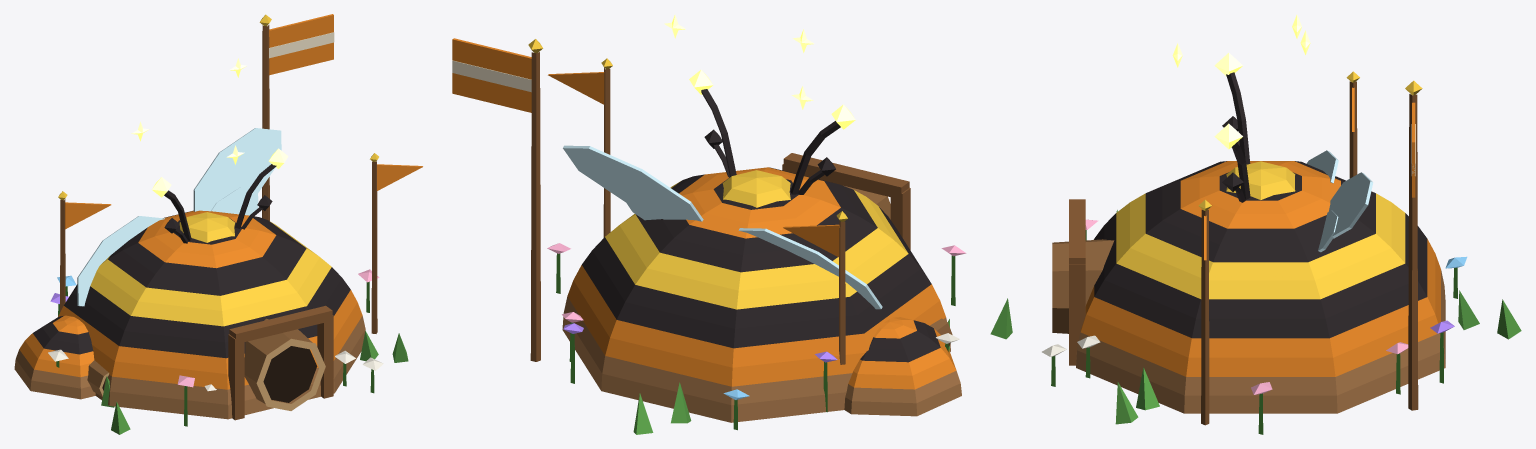
Rendered from bumblebee-burrow.glb.
3 views of the same model, side by side, from view 1: azimuth 30°, elevation 25°; view 2: azimuth 150°, elevation 25°; view 3: azimuth 270°, elevation 25° (orthographic). The views are drawn at different scales.
Parts seen in each view (by area): view 1: lv3, lv2; view 2: lv3, lv2; view 3: lv3, lv2.
Boxes of the visible parts, <box> form: lv3: <box>14,14,422,434</box>; lv2: <box>50,187,378,407</box>; lv3: <box>452,14,1012,434</box>; lv2: <box>562,129,949,423</box>; lv3: <box>1042,14,1521,434</box>; lv2: <box>1077,71,1479,410</box>.
Size of the model in its own units: 1.89 by 1.34 by 1.73.
